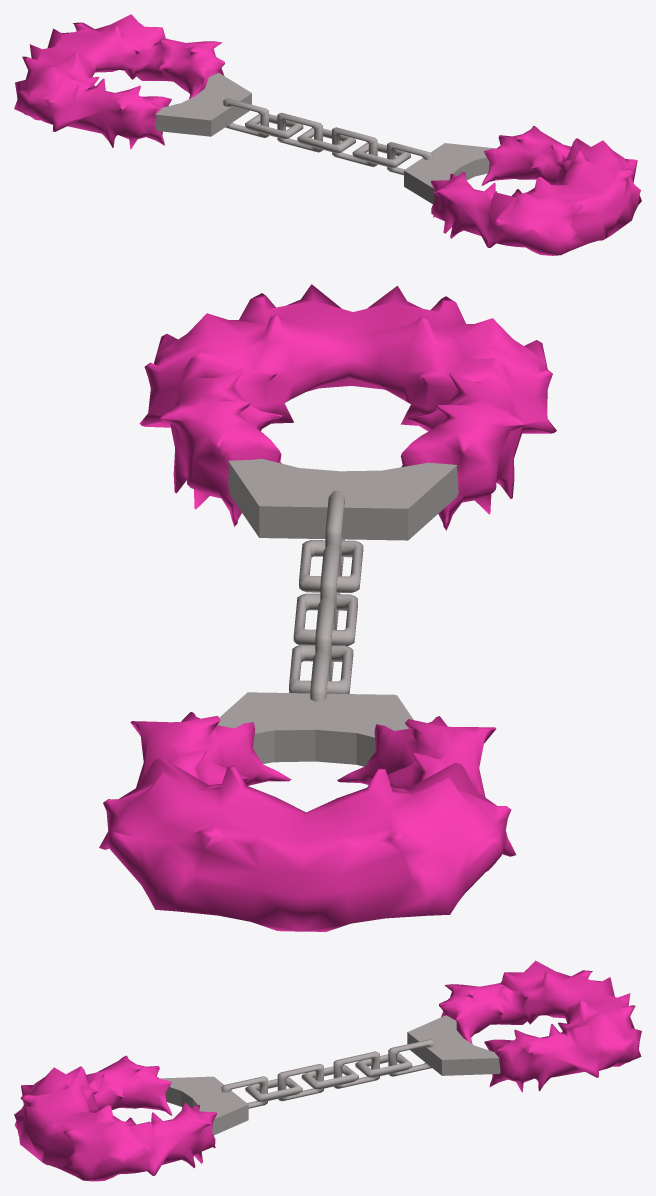
File: Cuffs.fbx
3 views of the same model, one above another, from view 1: azimuth 30°, elevation 25°; view 2: azimuth 150°, elevation 25°; view 3: azimuth 270°, elevation 25° (orthographic). The views are drawn at different scales.
Visible parts, largest first — view 1: Cube.003; view 2: Cube.003; view 3: Cube.003.
Part boxes in pixels (x1,y1,x2,y2): Cube.003: [14, 14, 641, 255]; Cube.003: [99, 284, 556, 931]; Cube.003: [14, 960, 641, 1181].
Bounding box in the file's own units: 38.46 × 5.88 × 54.32.
